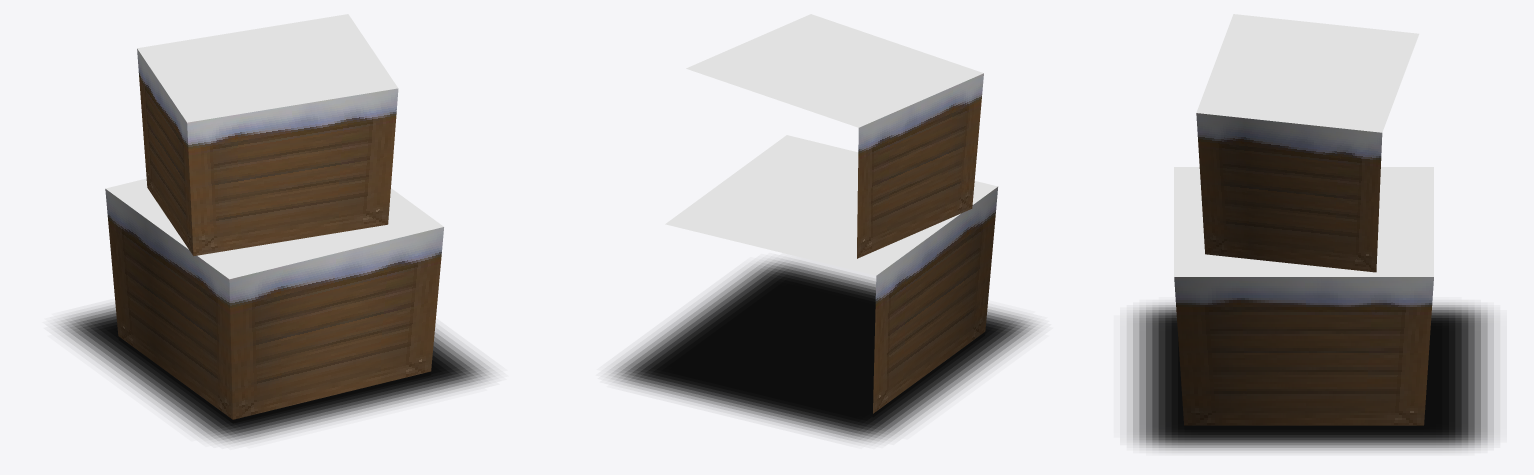
Rendered from ice_crate.glb.
3 views of the same model, side by side, from view 1: azimuth 30°, elevation 25°; view 2: azimuth 150°, elevation 25°; view 3: azimuth 270°, elevation 25° (orthographic). The views are drawn at different scales.
Parts seen in each view (by area): view 1: cratemesh, drop_shadow; view 2: cratemesh, drop_shadow; view 3: cratemesh, drop_shadow.
Boxes of the visible parts, left/top/right/bottom form: cratemesh: left=105, top=14, right=443, bottom=419; drop_shadow: left=57, top=304, right=493, bottom=443; cratemesh: left=665, top=14, right=998, bottom=413; drop_shadow: left=609, top=259, right=1038, bottom=442; cratemesh: left=1174, top=14, right=1433, bottom=425; drop_shadow: left=1127, top=303, right=1493, bottom=450.
Size of the model in its own units: 3.99 by 3.38 by 4.17.
3 materials, 3 textured.
